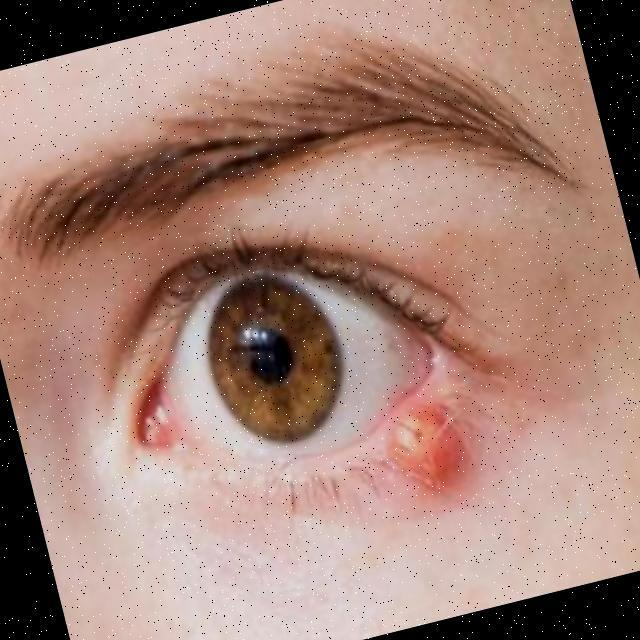Stye: (306, 314, 524, 556)
